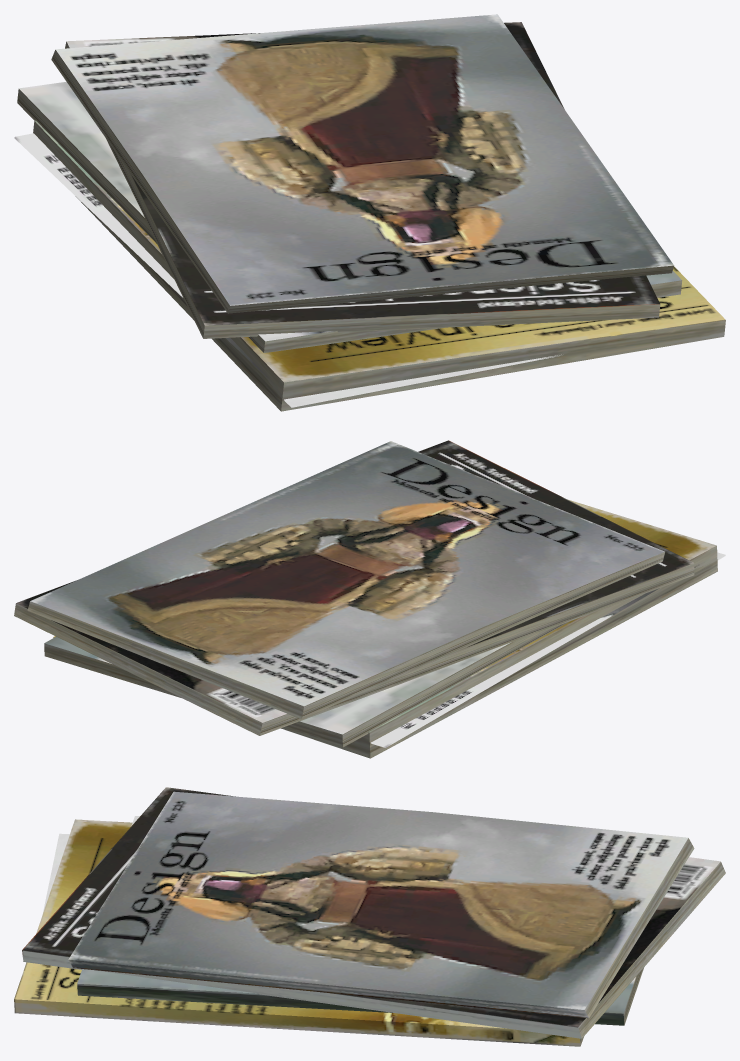
File: magazine_pile02.dae
3 renders of one model, top to bottom at view 1: azimuth 30°, elevation 25°; view 2: azimuth 150°, elevation 25°; view 3: azimuth 270°, elevation 25°, orthographic. The views are drawn at different scales.
Parts seen in each view (by area): view 1: magazine_pile02; view 2: magazine_pile02; view 3: magazine_pile02.
Part boxes in pixels (x1,y1,x2,y2): magazine_pile02: (14, 14, 725, 411); magazine_pile02: (14, 440, 725, 758); magazine_pile02: (14, 787, 725, 1046).
Bounding box in the file's own units: 21.61 × 2.61 × 27.79.
